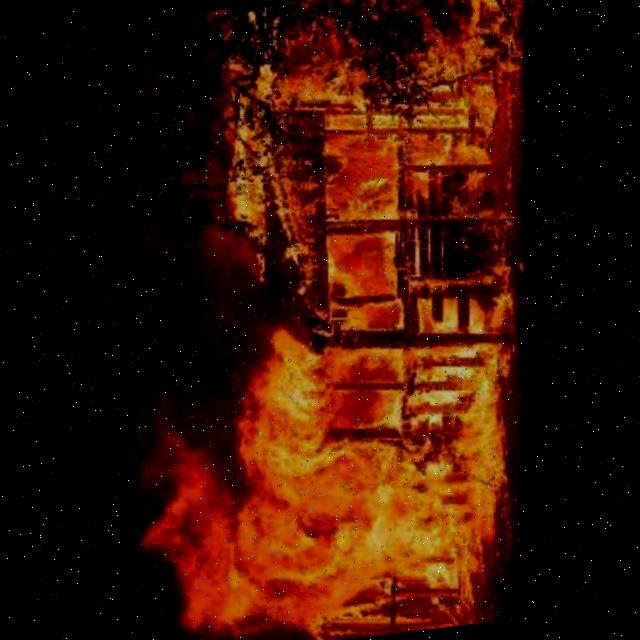fire: (121, 321, 503, 640), (211, 45, 509, 347)
